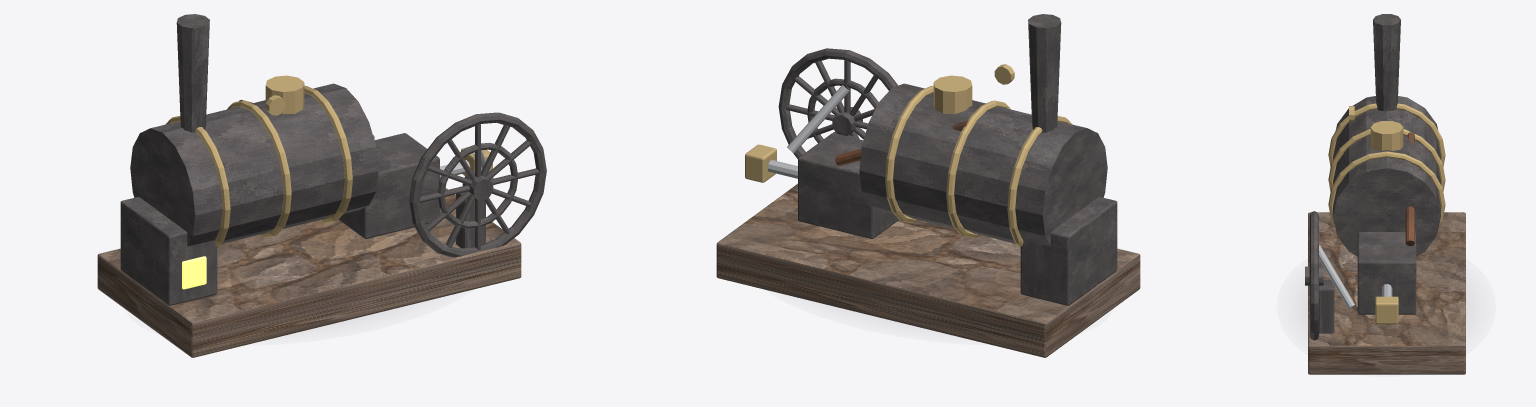
Rendered from steam-engine.glb.
3 renders of one model, left to right at view 1: azimuth 30°, elevation 25°; view 2: azimuth 150°, elevation 25°; view 3: azimuth 270°, elevation 25°, orthographic. The views are drawn at different scales.
Visible parts, largest first — view 1: base, boiler, firebox, cylBlock, rim, smokestack, rimIn, boilerBand.002, boilerBand, boilerBand.001, dome, flyPost (+8 smaller); view 2: base, boiler, firebox, cylBlock, smokestack, rim, boilerBand.002, dome, boilerBand, boilerBand.001, crosshead, conRod (+2 smaller); view 3: base, boiler, cylBlock, smokestack, rim, boilerBand, dome, boilerBand.001, boilerBand.002, flyPost, crosshead, conRod (+1 smaller).
Boxes of the visible parts, x1,y1,x2,y2 form: base: [97, 188, 521, 357]; boiler: [130, 83, 378, 246]; firebox: [120, 197, 217, 305]; cylBlock: [338, 133, 439, 238]; rim: [409, 112, 546, 257]; smokestack: [176, 14, 209, 132]; rimIn: [438, 143, 517, 228]; boilerBand.002: [227, 100, 291, 237]; boilerBand: [304, 85, 352, 223]; boilerBand.001: [165, 116, 230, 247]; dome: [265, 75, 304, 114]; flyPost: [456, 192, 485, 248]; base: [716, 184, 1140, 357]; boiler: [859, 83, 1107, 246]; firebox: [1020, 197, 1117, 305]; cylBlock: [798, 133, 899, 238]; smokestack: [1028, 14, 1061, 132]; rim: [778, 48, 898, 158]; boilerBand.002: [946, 100, 1010, 237]; dome: [933, 75, 972, 114]; boilerBand: [885, 85, 933, 223]; boilerBand.001: [1007, 116, 1072, 247]; crosshead: [745, 144, 776, 182]; conRod: [787, 85, 849, 153]; base: [1308, 212, 1465, 374]; boiler: [1333, 96, 1440, 256]; cylBlock: [1357, 232, 1416, 314]; smokestack: [1373, 14, 1400, 110]; rim: [1309, 211, 1318, 340]; boilerBand: [1328, 151, 1445, 228]; dome: [1370, 121, 1403, 150]; boilerBand.001: [1328, 103, 1445, 166]; boilerBand.002: [1328, 129, 1445, 191]; flyPost: [1319, 280, 1334, 333]; crosshead: [1375, 296, 1398, 324]; conRod: [1319, 245, 1354, 308].
Size of the model in its own units: 3.5 by 2.28 by 2.3.
9 materials, 5 textured.
